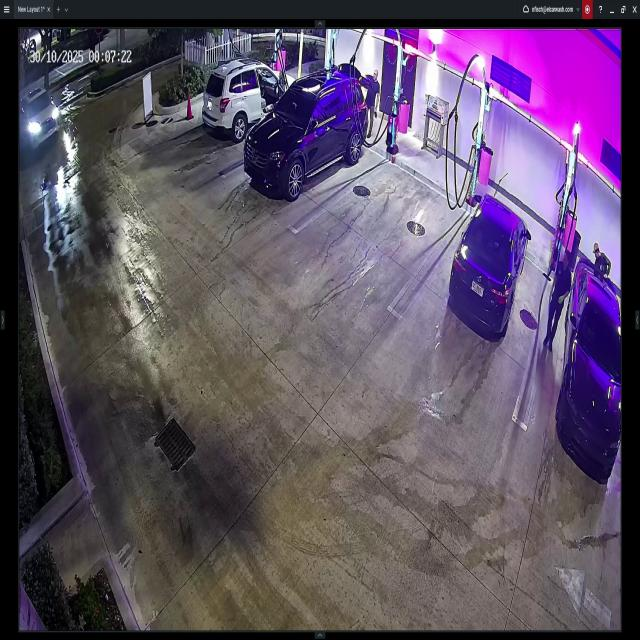Car: (245, 64, 368, 194), (557, 258, 623, 478), (451, 194, 531, 338), (201, 59, 296, 138), (21, 90, 64, 152)
